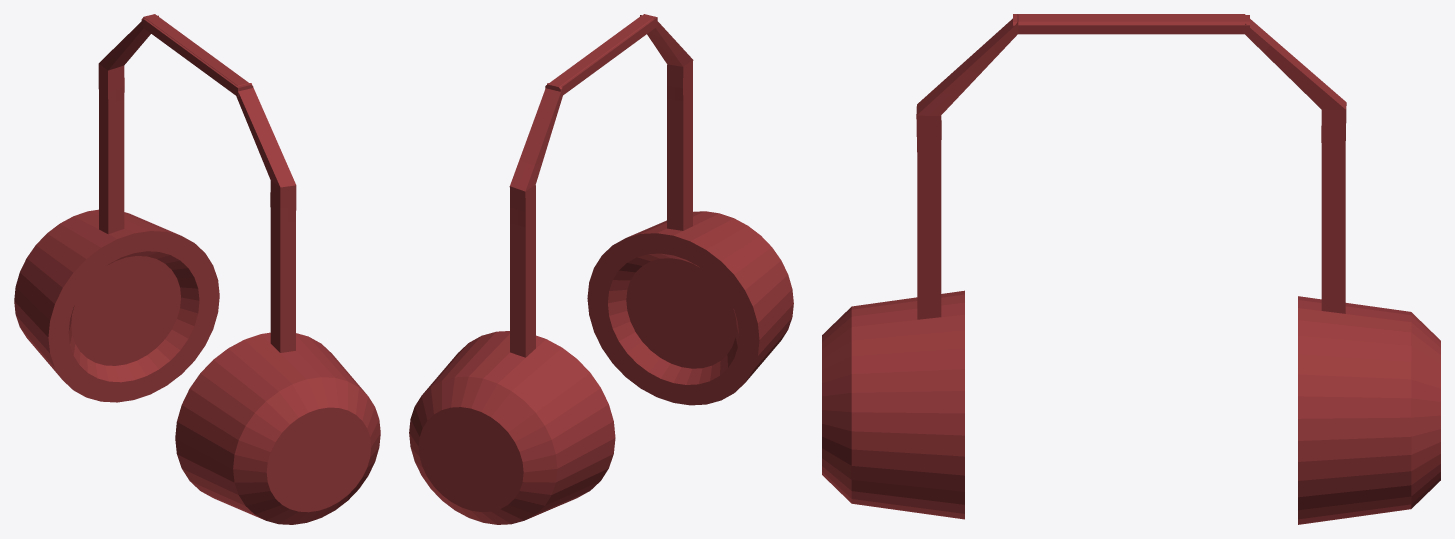
File: CUFFIE.fbx
3 renders of one model, left to right at view 1: azimuth 30°, elevation 25°; view 2: azimuth 150°, elevation 25°; view 3: azimuth 270°, elevation 25°, orthographic. The views are drawn at different scales.
Parts seen in each view (by area): view 1: Cylinder.001; view 2: Cylinder.001; view 3: Cylinder.001.
Part boxes in pixels (x1,y1,x2,y2): Cylinder.001: (14, 14, 380, 524); Cylinder.001: (409, 14, 793, 524); Cylinder.001: (822, 14, 1440, 524).
Bounding box in the file's own units: 272 × 578 × 658.
